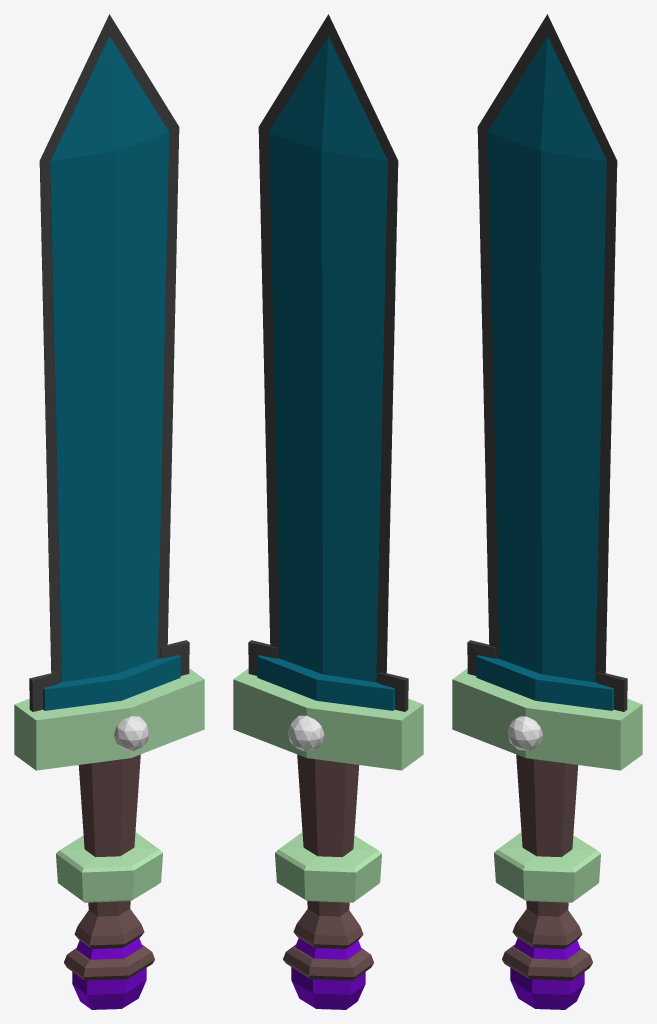
3 renders of one model, left to right at view 1: azimuth 30°, elevation 25°; view 2: azimuth 150°, elevation 25°; view 3: azimuth 330°, elevation 25°, orthographic.
Parts seen in each view (by area): view 1: Cylinder; view 2: Cylinder; view 3: Cylinder.
Boxes of the visible parts, x1,y1,x2,y2 form: Cylinder: (14,14,204,1009); Cylinder: (233,14,423,1009); Cylinder: (452,14,642,1009).
Size of the model in its own units: 446 by 2509 by 286.
